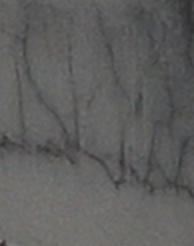termicas: (1, 120, 194, 200)
